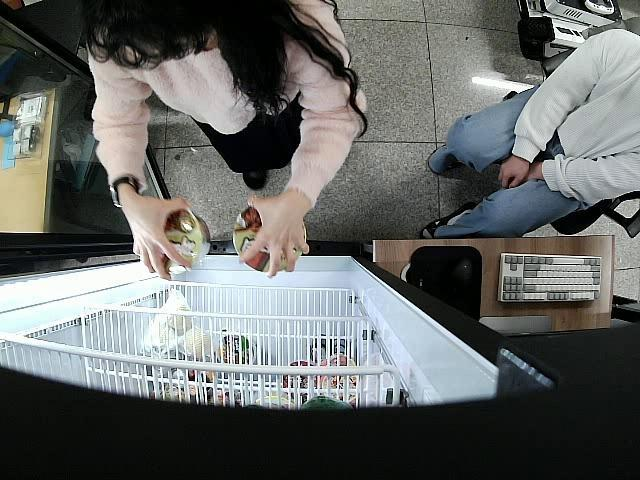03_chapagetti_L: (232, 207, 306, 274), (157, 206, 210, 274)
